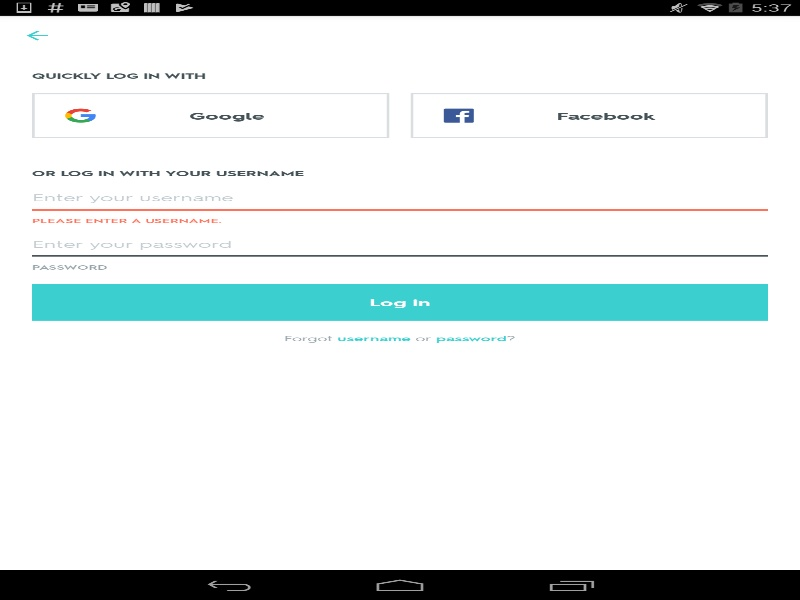Button: (32, 283, 768, 320)
Input: (32, 190, 768, 203), (32, 237, 768, 250)
